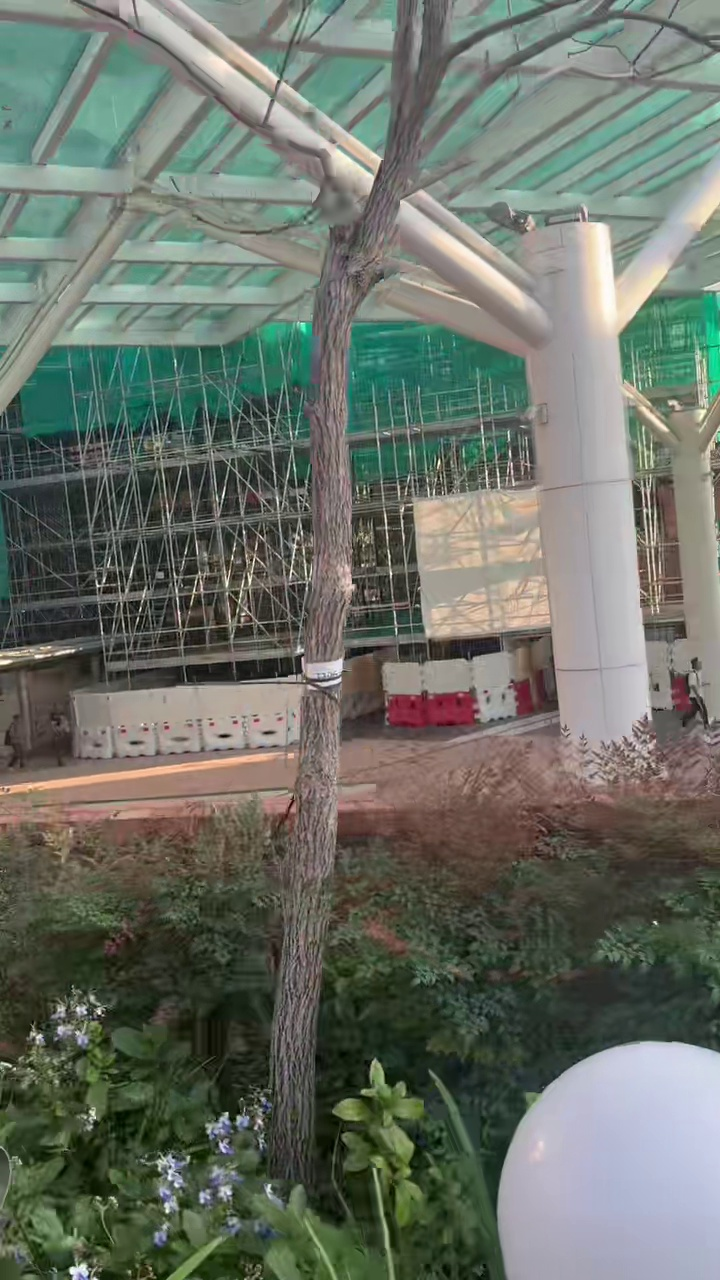Tabebuia chrysantha: (269, 0, 714, 1182)
